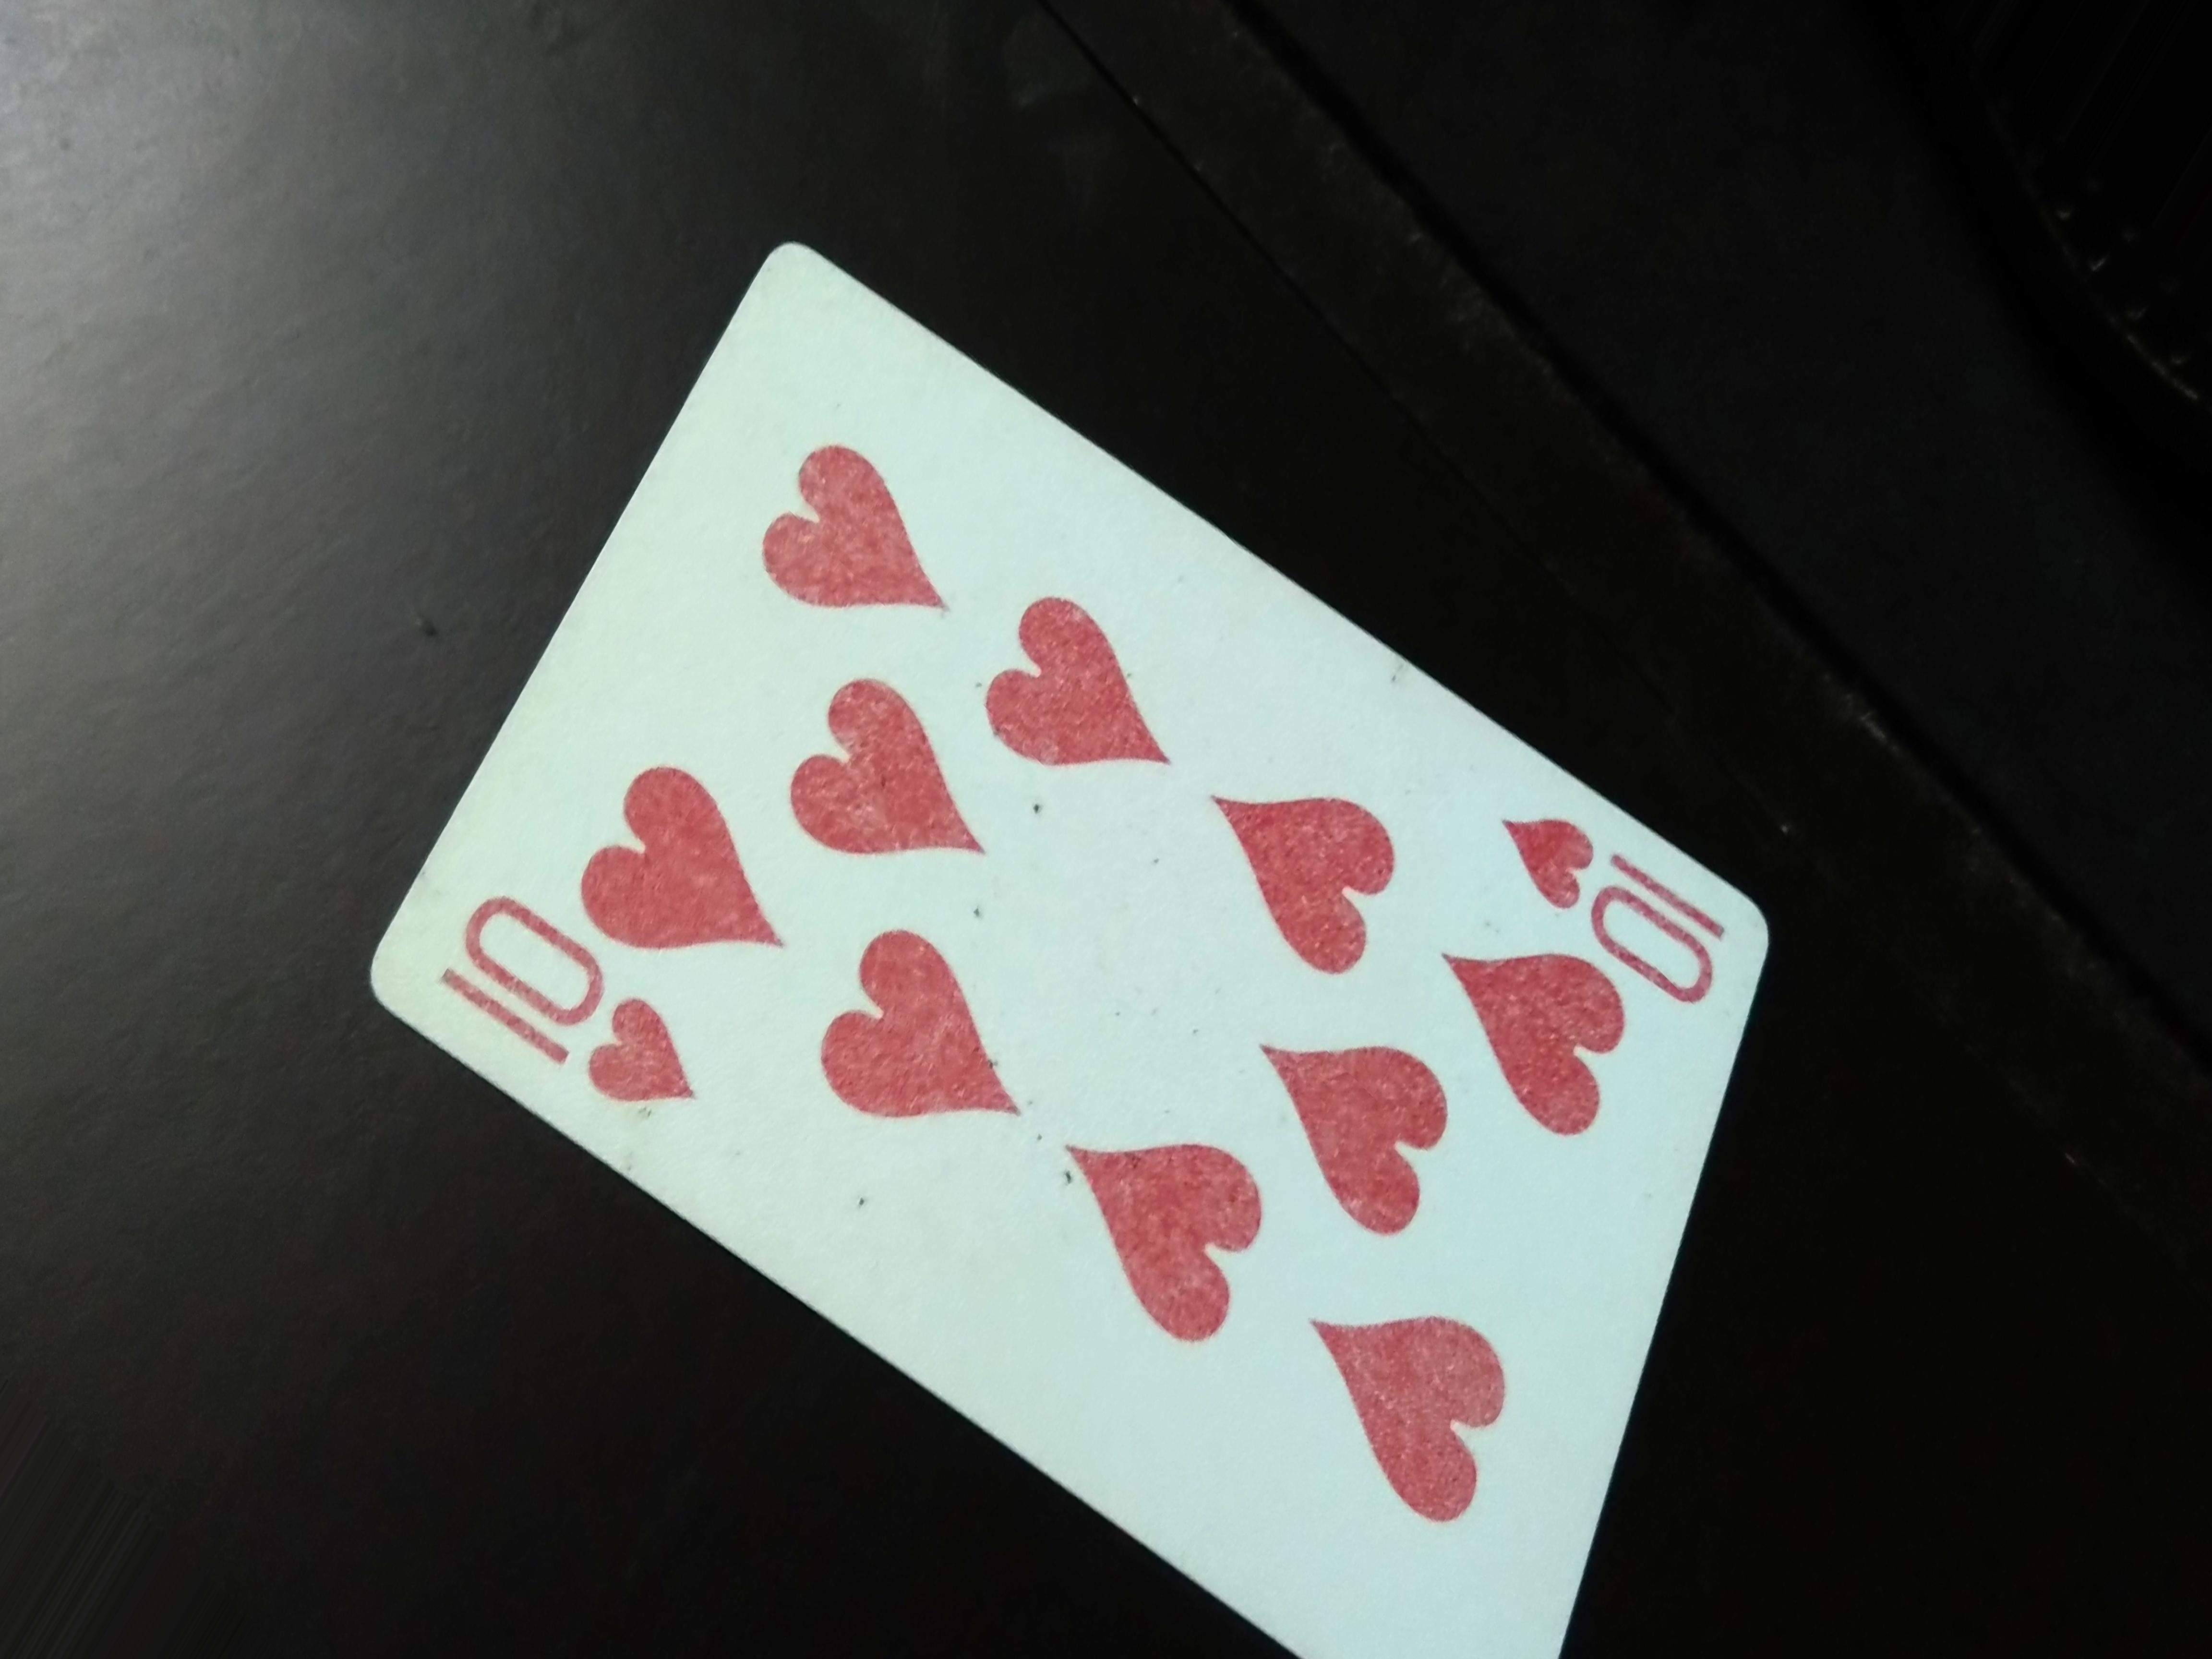10H: (415, 884, 704, 1121)
